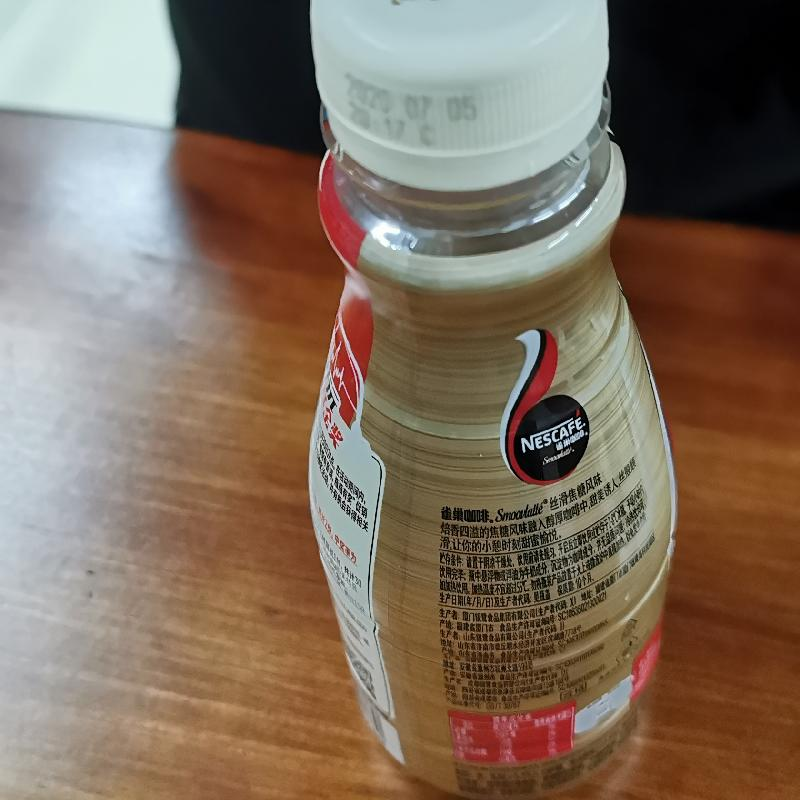bottles: (301, 1, 683, 799)
